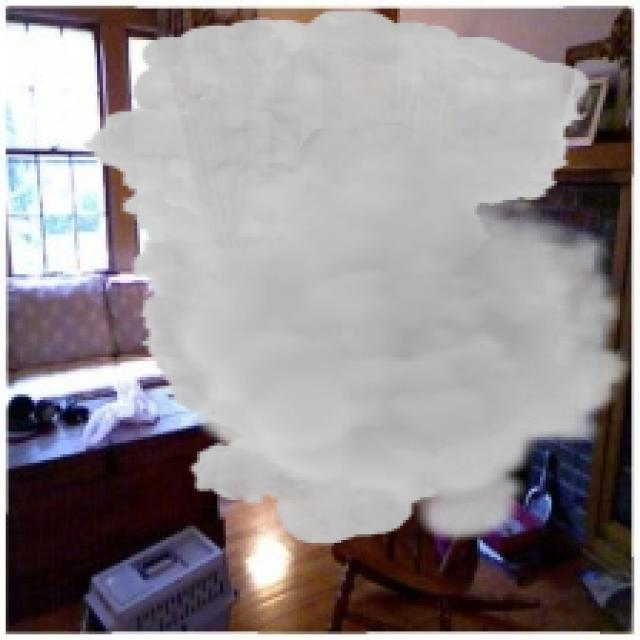smoke: (80, 8, 634, 546)
